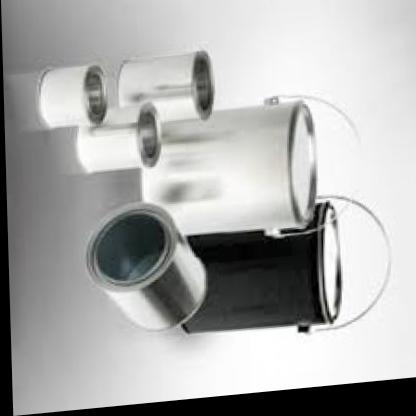Metal: (15, 5, 393, 374)
